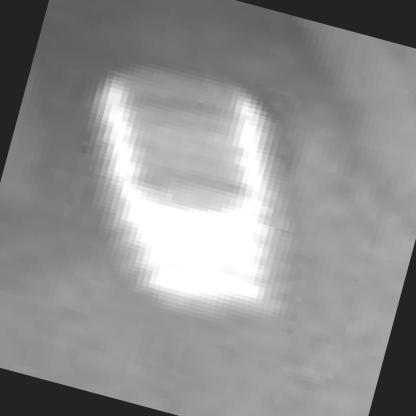Bicon: (86, 65, 285, 322)
